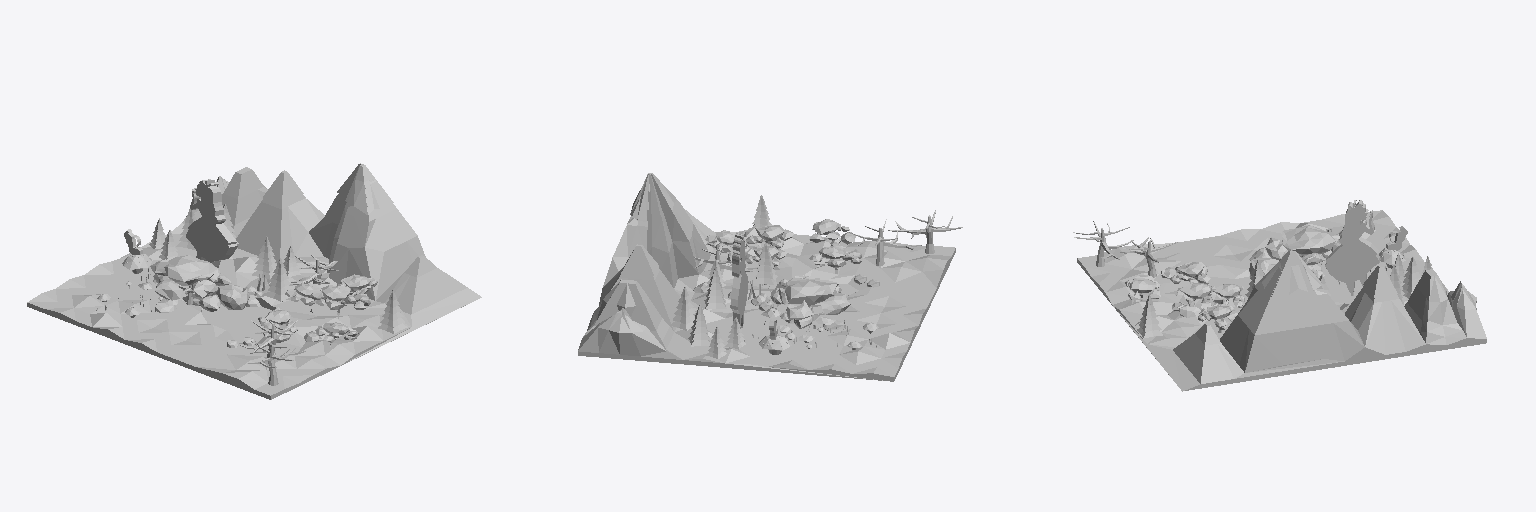
Rendered from bosco alice.obj.
3 views of the same model, side by side, from view 1: azimuth 30°, elevation 25°; view 2: azimuth 150°, elevation 25°; view 3: azimuth 270°, elevation 25° (orthographic).
Visible parts, largest first — view 1: prim75_prim75-mesh, prim54_prim54-mesh, prim64_prim64-mesh, prim53_prim53-mesh, prim35_prim35-mesh, prim21_prim21-mesh, prim40_prim40-mesh, prim4_prim4-mesh.001, prim39_prim39-mesh, prim10_prim10-mesh; view 2: prim75_prim75-mesh, prim54_prim54-mesh, prim64_prim64-mesh, prim40_prim40-mesh, prim53_prim53-mesh, prim35_prim35-mesh, prim23_prim23-mesh, prim68_prim68-mesh, prim10_prim10-mesh, prim4_prim4-mesh.001, prim39_prim39-mesh, prim42_prim42-mesh (+1 smaller); view 3: prim75_prim75-mesh, prim64_prim64-mesh, prim54_prim54-mesh, prim53_prim53-mesh, prim40_prim40-mesh, prim35_prim35-mesh, prim68_prim68-mesh, prim21_prim21-mesh, prim1_prim1-mesh.001, prim10_prim10-mesh.
Boxes of the visible parts, x1,y1,x2,y2 form: prim75_prim75-mesh: [27, 163, 481, 399]; prim54_prim54-mesh: [150, 255, 249, 311]; prim64_prim64-mesh: [186, 179, 237, 267]; prim53_prim53-mesh: [309, 285, 370, 318]; prim35_prim35-mesh: [304, 322, 358, 346]; prim21_prim21-mesh: [378, 290, 407, 333]; prim40_prim40-mesh: [258, 310, 297, 342]; prim4_prim4-mesh.001: [265, 258, 291, 301]; prim39_prim39-mesh: [252, 236, 276, 279]; prim10_prim10-mesh: [247, 341, 306, 385]; prim75_prim75-mesh: [578, 173, 955, 381]; prim54_prim54-mesh: [771, 275, 850, 328]; prim64_prim64-mesh: [730, 233, 748, 328]; prim40_prim40-mesh: [809, 246, 861, 273]; prim53_prim53-mesh: [744, 225, 793, 249]; prim35_prim35-mesh: [809, 219, 855, 245]; prim23_prim23-mesh: [670, 287, 695, 330]; prim68_prim68-mesh: [705, 230, 760, 260]; prim10_prim10-mesh: [888, 210, 962, 253]; prim4_prim4-mesh.001: [753, 242, 777, 284]; prim39_prim39-mesh: [704, 267, 726, 308]; prim42_prim42-mesh: [688, 304, 710, 346]; prim75_prim75-mesh: [1077, 210, 1486, 391]; prim64_prim64-mesh: [1325, 200, 1380, 295]; prim54_prim54-mesh: [1249, 225, 1340, 277]; prim53_prim53-mesh: [1172, 283, 1215, 317]; prim40_prim40-mesh: [1161, 262, 1210, 284]; prim35_prim35-mesh: [1125, 275, 1160, 303]; prim68_prim68-mesh: [1198, 305, 1237, 332]; prim21_prim21-mesh: [1137, 295, 1162, 338]; prim1_prim1-mesh.001: [1210, 284, 1243, 309]; prim10_prim10-mesh: [1073, 221, 1133, 266].
Bounding box in the file's own units: 41.93 × 13.4 × 42.42.